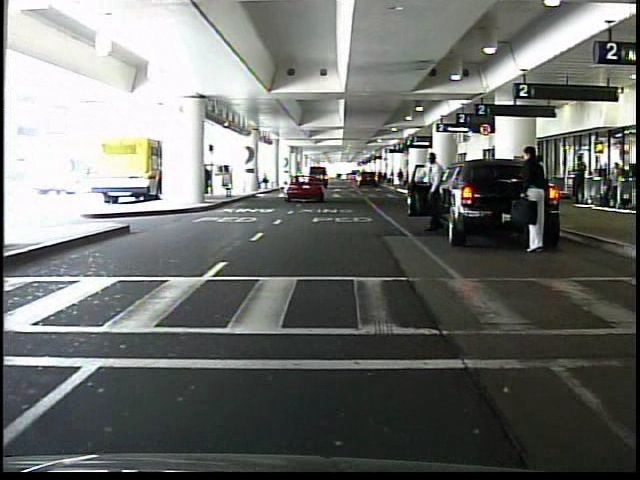person: (517, 147, 557, 258), (422, 153, 447, 238), (572, 157, 586, 205), (396, 168, 406, 188)
